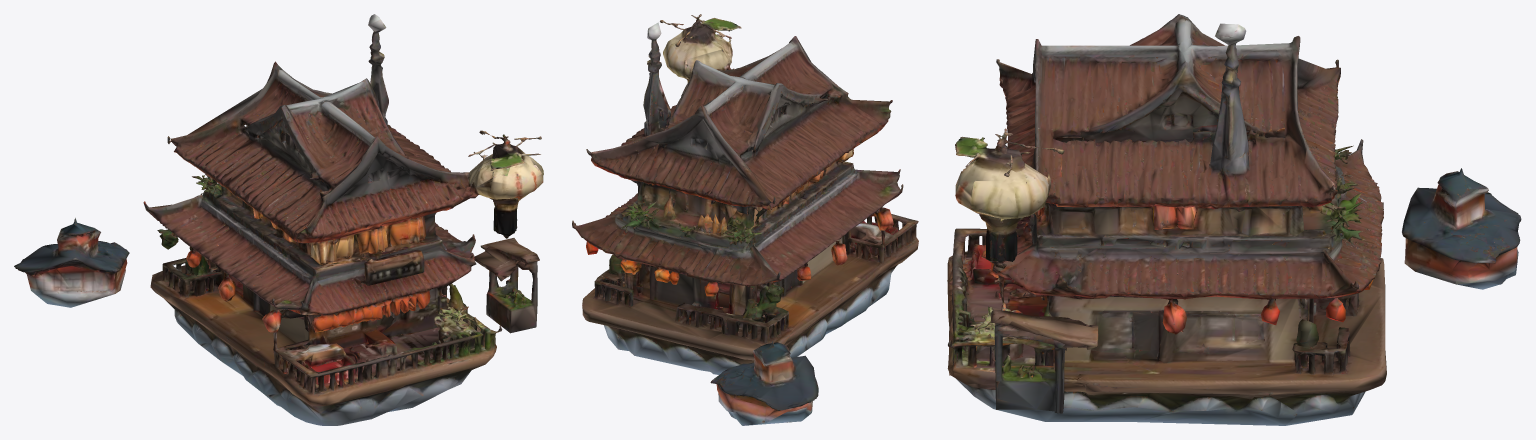
Rendered from bq_tavern.glb.
3 renders of one model, left to right at view 1: azimuth 30°, elevation 25°; view 2: azimuth 150°, elevation 25°; view 3: azimuth 270°, elevation 25°, orthographic. The views are drawn at different scales.
Bounding box in the file's own units: 1.83 × 1.58 × 1.99.
1 material, 1 textured.
